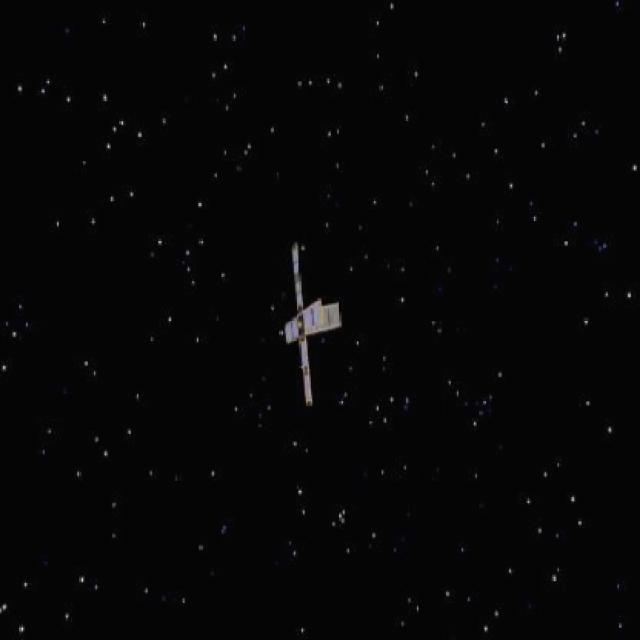satellite: (276, 237, 348, 418)
